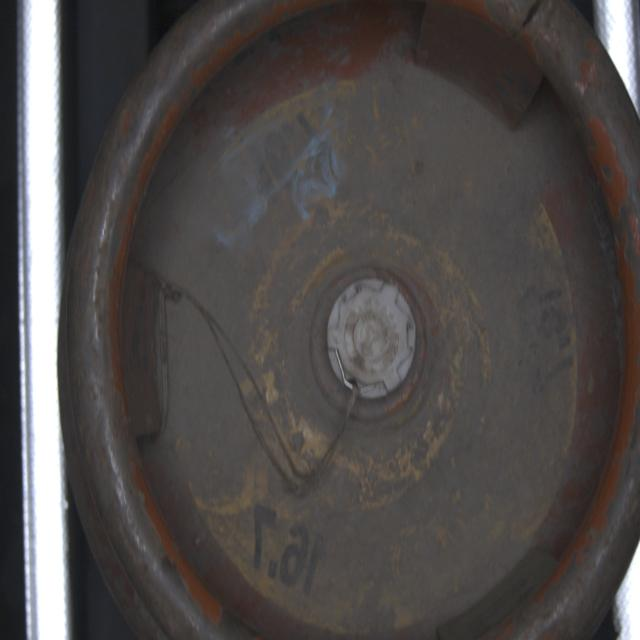Cap: (325, 275, 420, 400)
